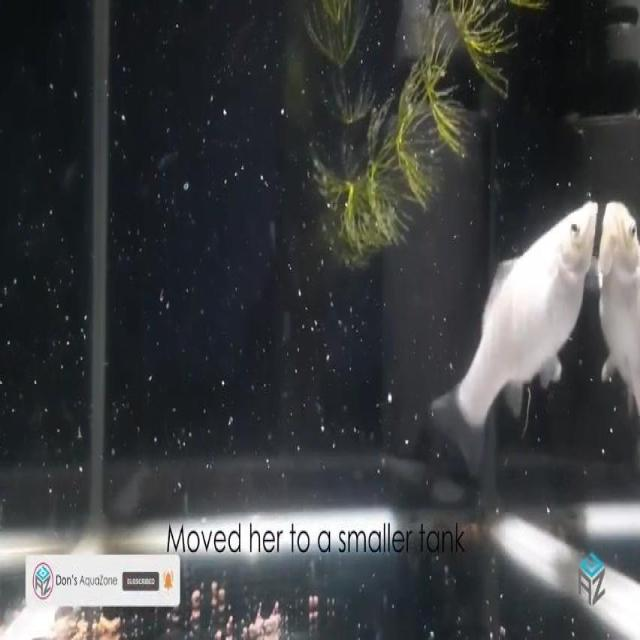PlatyFish: (421, 191, 603, 496)
